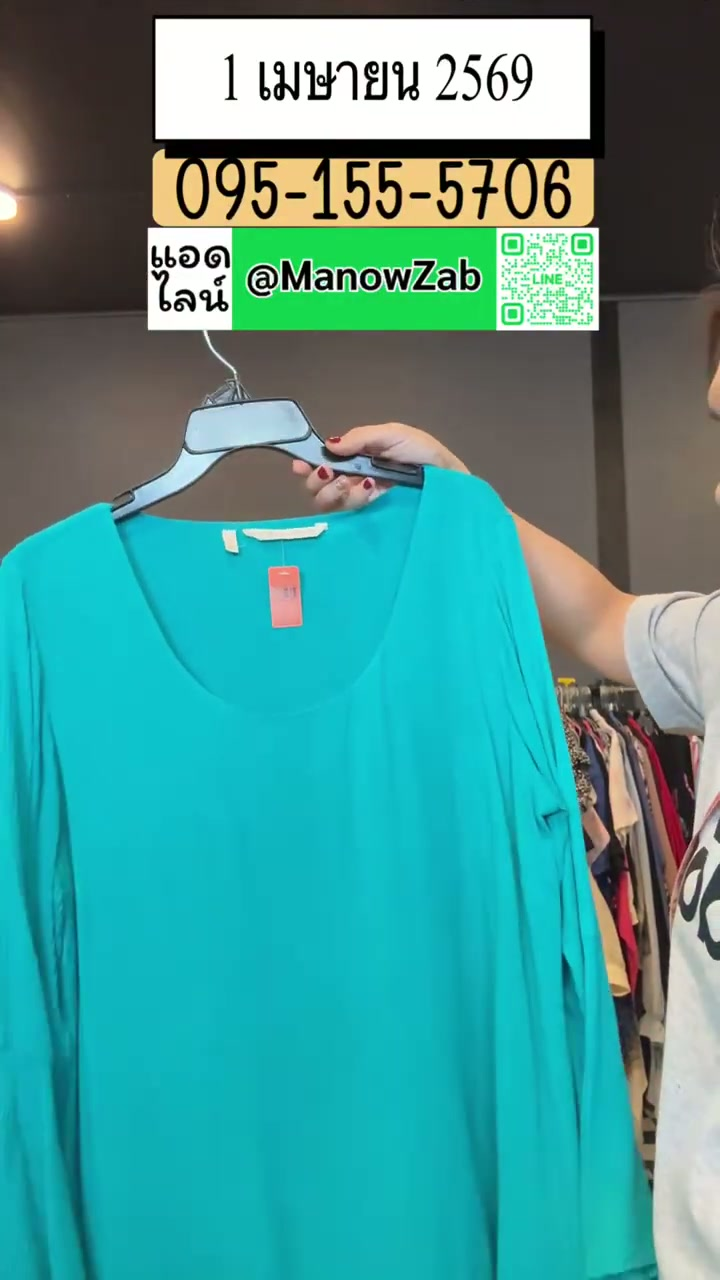display_shirt: (0, 472, 655, 1279)
